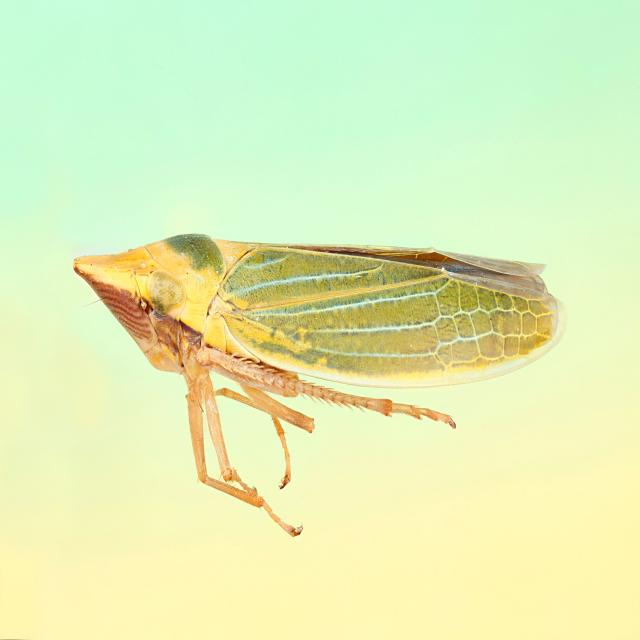Yechan: (46, 200, 575, 496)
